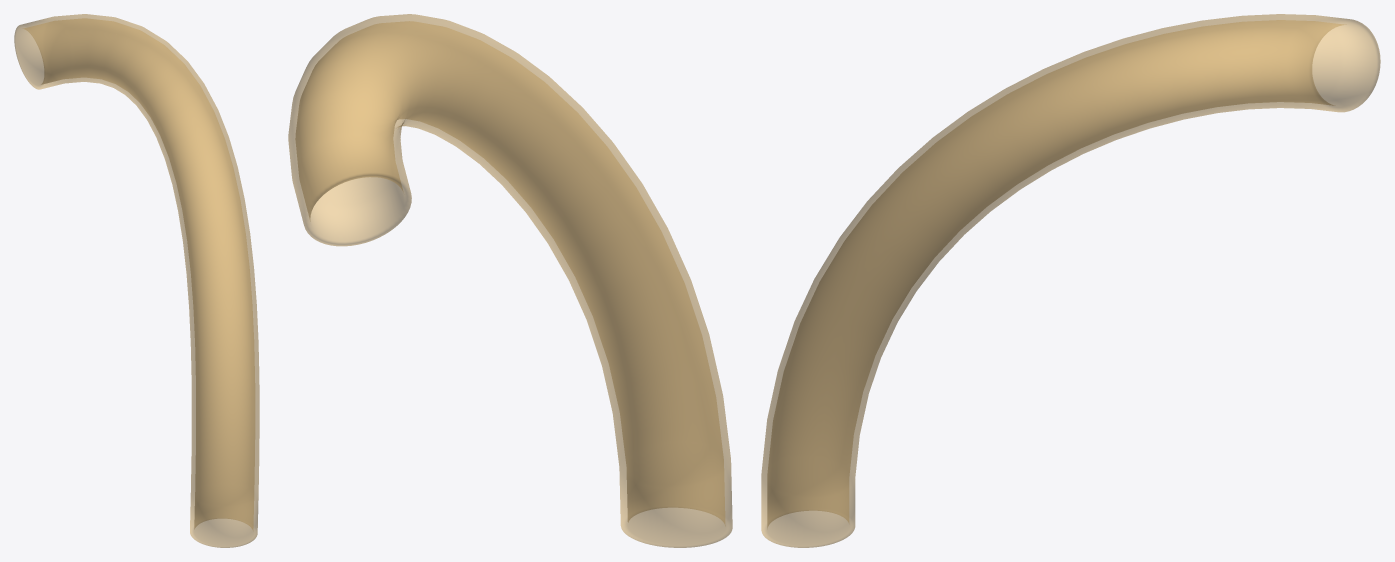
The model's file is Slide_Test.fbx.
3 renders of one model, left to right at view 1: azimuth 30°, elevation 25°; view 2: azimuth 150°, elevation 25°; view 3: azimuth 270°, elevation 25°, orthographic. The views are drawn at different scales.
Parts seen in each view (by area): view 1: BezierCurve.001; view 2: BezierCurve.001; view 3: BezierCurve.001.
Boxes of the visible parts, <box> form: BezierCurve.001: <box>14,14,259,547</box>; BezierCurve.001: <box>288,14,732,547</box>; BezierCurve.001: <box>761,14,1380,547</box>.
Bounding box in the file's own units: 5.17 × 1.55 × 4.96.
